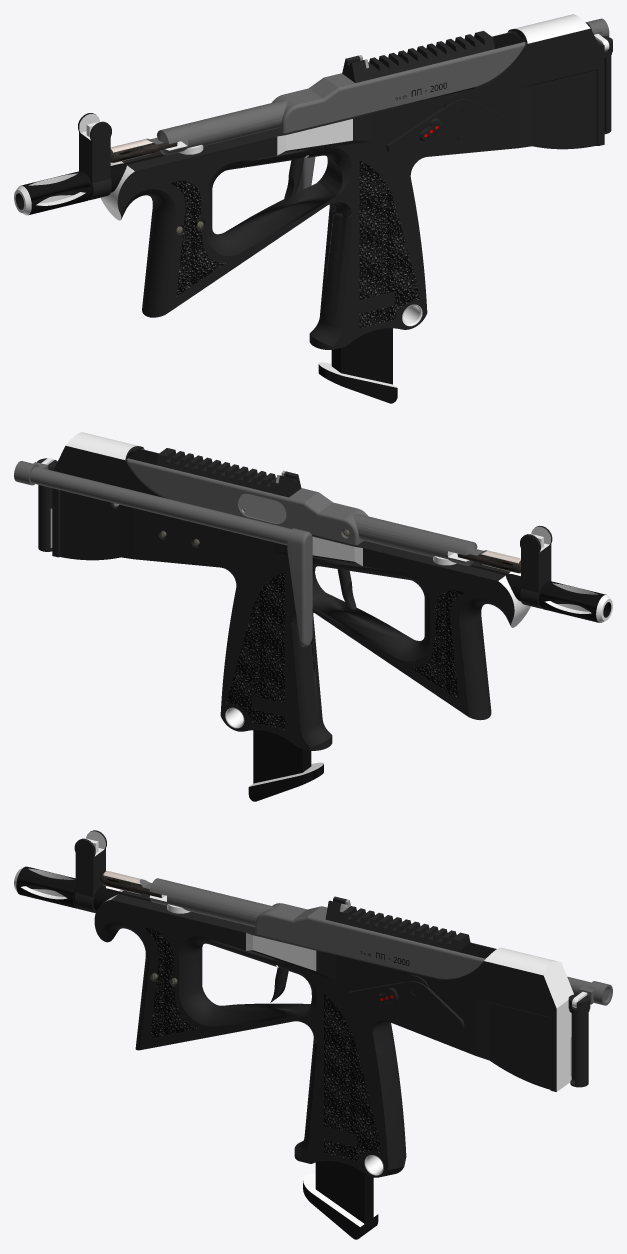
The picture shows the model from 3 angles, top to bottom: view 1: azimuth 30°, elevation 25°; view 2: azimuth 150°, elevation 25°; view 3: azimuth 330°, elevation 25°; orthographic projection. The views are drawn at different scales.
Visible parts, largest first — view 1: Mesh1 Model; view 2: Mesh1 Model; view 3: Mesh1 Model.
Boxes of the visible parts, x1=… form: Mesh1 Model: x1=14, y1=14, x2=612, y2=403; Mesh1 Model: x1=14, y1=432, x2=612, y2=801; Mesh1 Model: x1=14, y1=830, x2=612, y2=1239.
Bounding box in the file's own units: 14.72 × 8.15 × 1.51.
